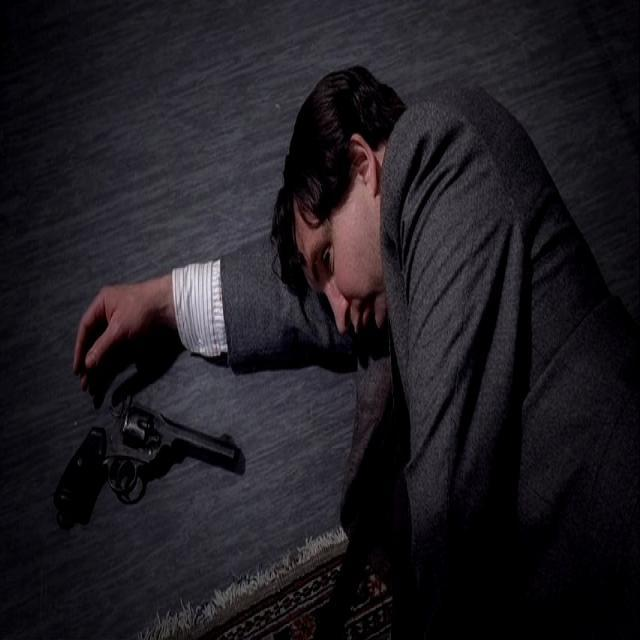gun-knife-thesis - v11 Yolov5 augmented: (52, 380, 246, 528)
